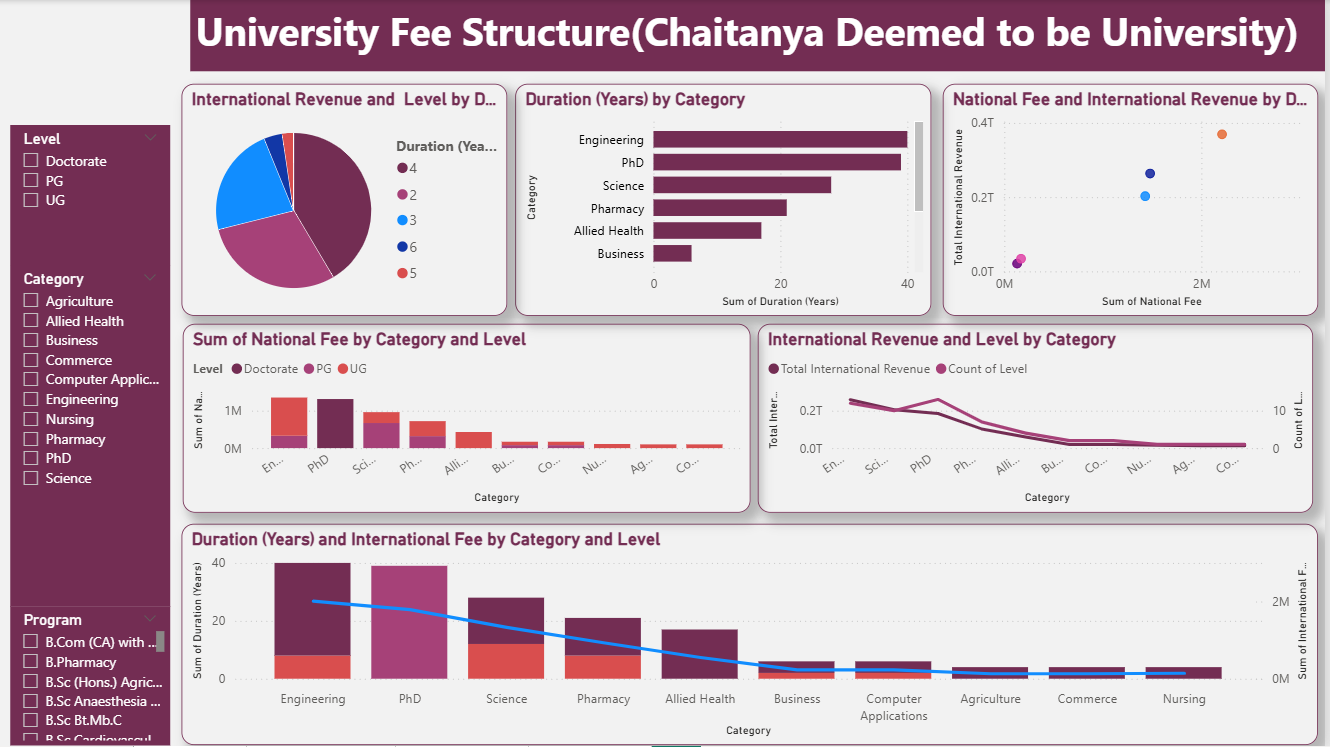

This screenshot's page, from the dashboard's own definition file:
{"tool":"powerbi","page":{"name":"University_Fee","canvas":[1280,720],"ordinal":1},"visuals":[{"type":"textbox","box":[184.9,0,1095.4,68.6],"z":0},{"type":"slicer","fields":{"Values":["University_Programs.Level"]},"box":[10.5,120.9,154.7,134.9],"z":1},{"type":"image","box":[22.1,0,143,120.9],"z":2},{"type":"slicer","fields":{"Values":["University_Programs.Category"]},"box":[10.5,255.8,154.2,329.4],"z":3},{"type":"slicer","fields":{"Values":["University_Programs.Program"]},"box":[10.5,585.2,154.2,134.3],"z":4},{"type":"barChart","title":" Duration (Years) by Category","fields":{"Category":["University_Programs.Category"],"Y":["Sum(University_Programs.Duration (Years))"]},"box":[498.8,80.6,401.8,224.3],"z":5},{"type":"scatterChart","title":"National Fee and International Revenue by Duration (Years)","fields":{"Y":["University_Programs.Total International Revenue"],"Series":["University_Programs.Duration (Years)"],"X":["Sum(University_Programs.National Fee)"]},"box":[911.1,80.6,362.1,224.3],"z":6},{"type":"pieChart","title":"International Revenue and  Level by Duration (Years)","fields":{"Y":["University_Programs.Total International Revenue","CountNonNull(University_Programs.Level)"],"Category":["University_Programs.Duration (Years)"]},"box":[176.4,80.6,314.2,224.3],"z":7},{"type":"lineStackedColumnComboChart","title":" Duration (Years) and International Fee by Category and Level","fields":{"Category":["University_Programs.Category"],"Y":["Sum(University_Programs.Duration (Years))"],"Y2":["Sum(University_Programs.International Fee)"],"Series":["University_Programs.Level"]},"box":[176.4,505.8,1096.8,213.8],"z":8},{"type":"columnChart","fields":{"Category":["University_Programs.Category"],"Y":["Sum(University_Programs.National Fee)"],"Series":["University_Programs.Level"]},"box":[177.6,313.1,547.8,182.2],"z":9},{"type":"lineChart","title":"International Revenue and Level by Category","fields":{"Category":["University_Programs.Category"],"Y":["University_Programs.Total International Revenue"],"Y2":["CountNonNull(University_Programs.Level)"]},"box":[732.4,313.1,536.2,182.2],"z":10}]}

Visuals, with their boxes on the page's 1280x720 design canvas (x1, y1, x2, y2). These are canvas units, not pixel positions in the 1330x747 screenshot, which may show the page scaled, cropped or inside an application window:
textbox: (left=185, top=0, right=1280, bottom=69)
slicer - University_Programs.Level: (left=10, top=121, right=165, bottom=256)
image: (left=22, top=0, right=165, bottom=121)
slicer - University_Programs.Category: (left=10, top=256, right=165, bottom=585)
slicer - University_Programs.Program: (left=10, top=585, right=165, bottom=720)
" Duration (Years) by Category" barChart: (left=499, top=81, right=901, bottom=305)
"National Fee and International Revenue by Duration (Years)" scatterChart: (left=911, top=81, right=1273, bottom=305)
"International Revenue and  Level by Duration (Years)" pieChart: (left=176, top=81, right=491, bottom=305)
" Duration (Years) and International Fee by Category and Level" lineStackedColumnComboChart: (left=176, top=506, right=1273, bottom=720)
columnChart - University_Programs.Category x Sum(University_Programs.National Fee): (left=178, top=313, right=725, bottom=495)
"International Revenue and Level by Category" lineChart: (left=732, top=313, right=1269, bottom=495)
